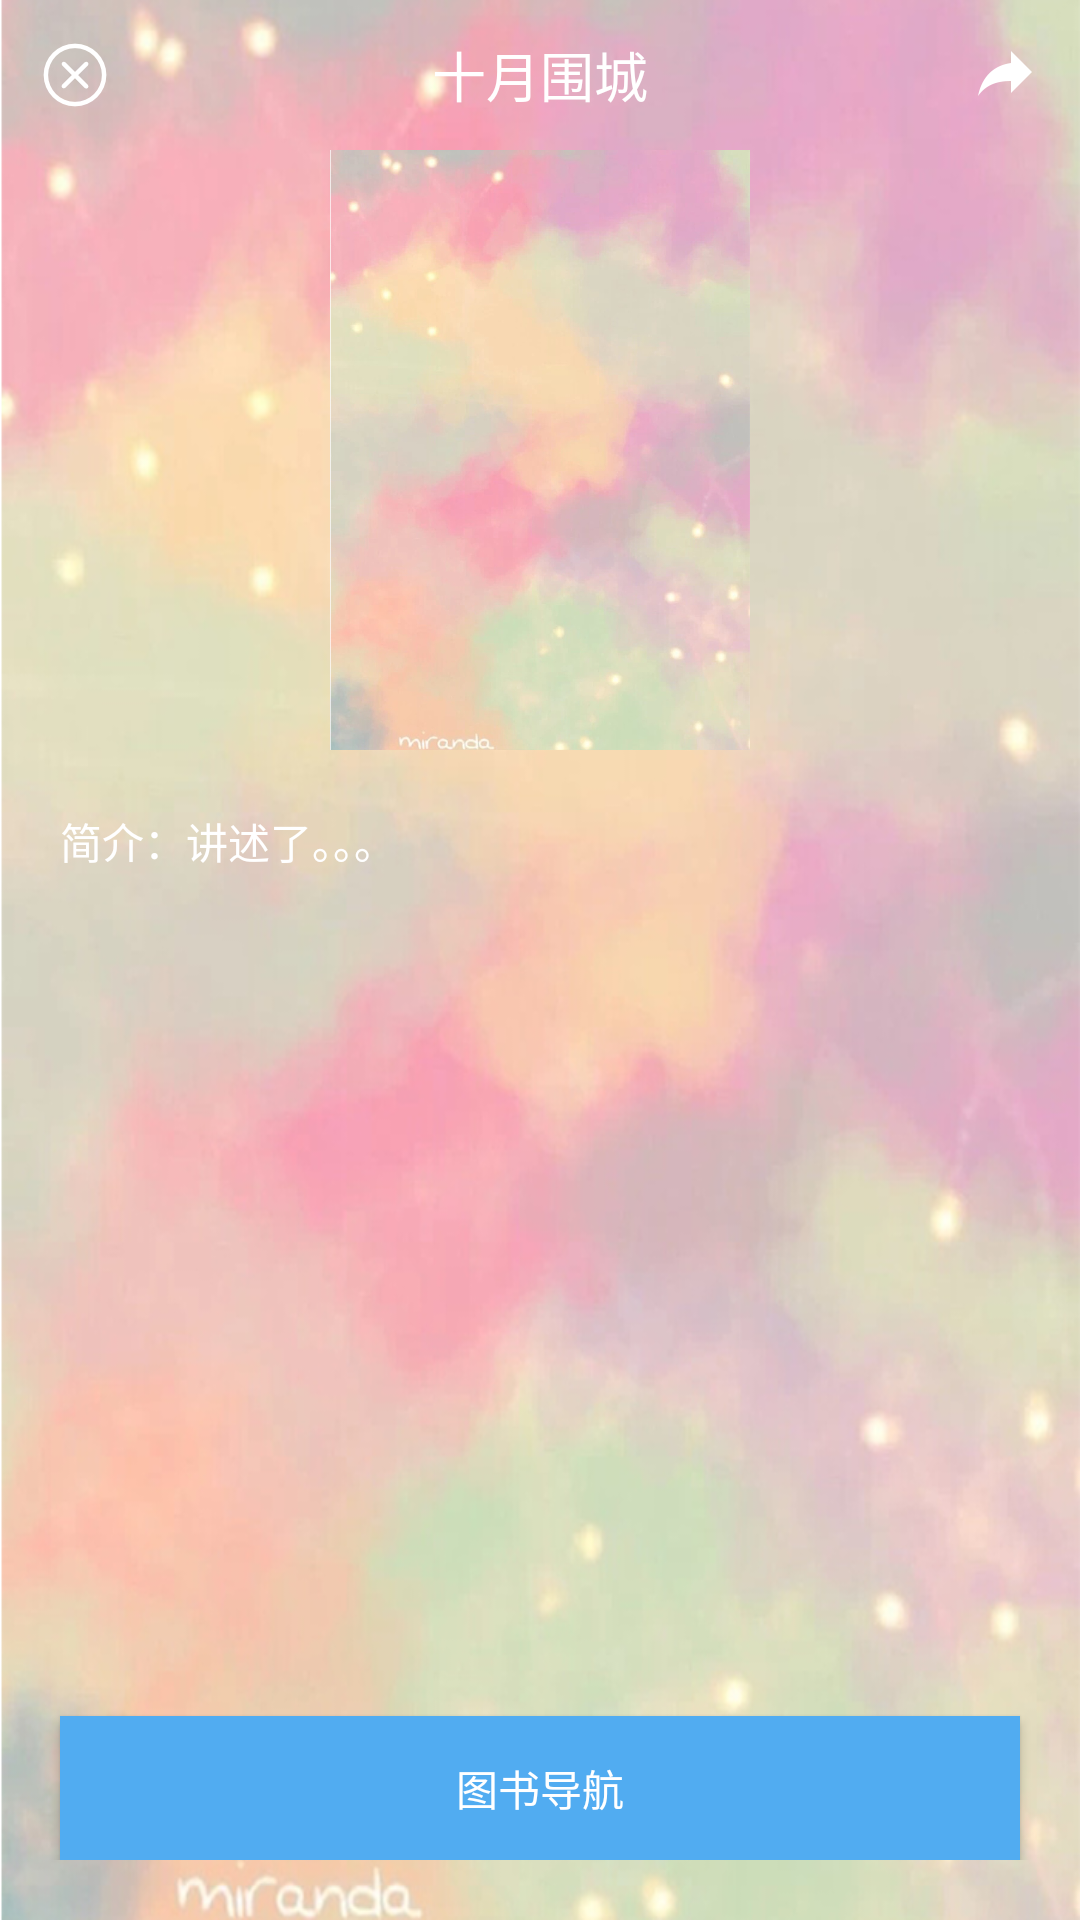

Where to tap for icons on this 1080*1920 app screen, as (x=x, y=y):
close: (x=67, y=61)
